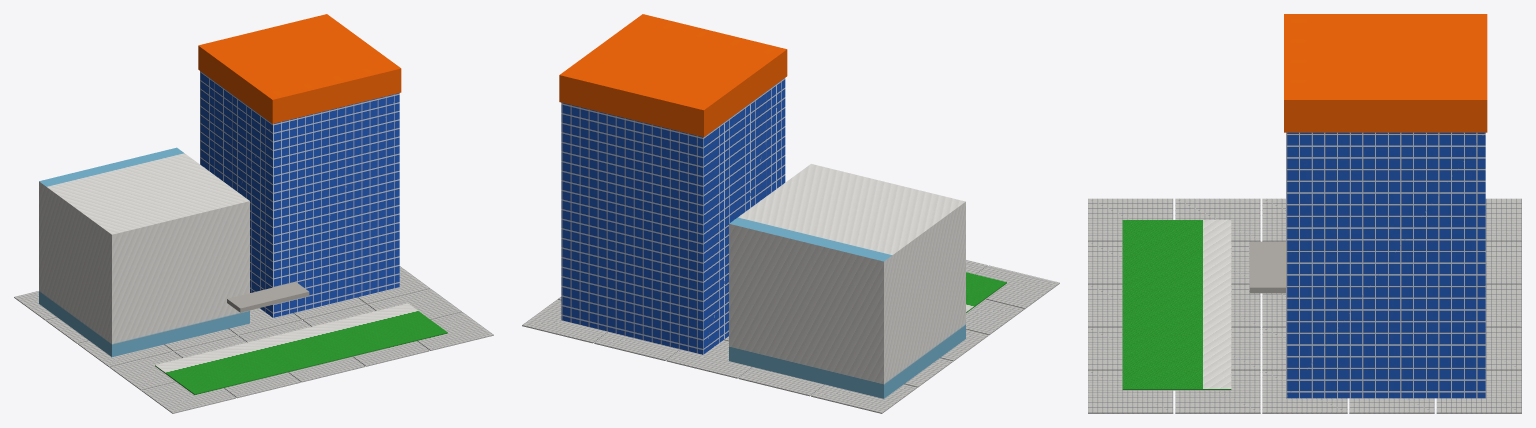
3 renders of one model, left to right at view 1: azimuth 30°, elevation 25°; view 2: azimuth 150°, elevation 25°; view 3: azimuth 270°, elevation 25°, orthographic. The views are drawn at different scales.
Parts seen in each view (by area): view 1: 28185_B35_Osstem_Global_Songdo_HQ; view 2: 28185_B35_Osstem_Global_Songdo_HQ; view 3: 28185_B35_Osstem_Global_Songdo_HQ.
Boxes of the visible parts, x1,y1,x2,y2 form: 28185_B35_Osstem_Global_Songdo_HQ: (14,14,493,413); 28185_B35_Osstem_Global_Songdo_HQ: (522,14,1059,413); 28185_B35_Osstem_Global_Songdo_HQ: (1088,14,1521,413).
Bounding box in the file's own units: 55.8 × 36.5 × 47.8.
Materials: 1 (1 with a texture image).
